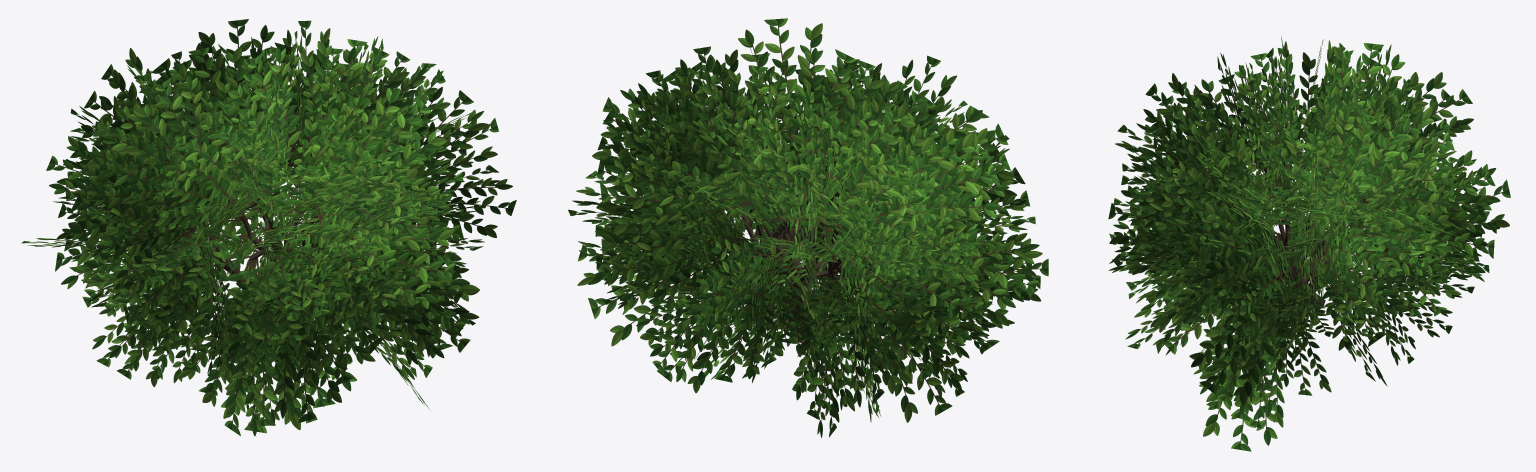
Rendered from bush.glb.
The picture shows the model from 3 angles, left to right: view 1: azimuth 30°, elevation 25°; view 2: azimuth 150°, elevation 25°; view 3: azimuth 270°, elevation 25°; orthographic projection. The views are drawn at different scales.
Visible parts, largest first — view 1: bush_leaves, bush; view 2: bush_leaves, bush; view 3: bush_leaves, bush.
Boxes of the visible parts, bbox=[...] form: bush_leaves: bbox=[21, 19, 516, 436]; bush: bbox=[182, 165, 343, 305]; bush_leaves: bbox=[568, 18, 1048, 437]; bush: bbox=[723, 173, 889, 343]; bush_leaves: bbox=[1108, 36, 1510, 451]; bush: bbox=[1231, 142, 1365, 320].
Size of the model in its own units: 1.96 by 1.57 by 1.72.
2 materials, 2 textured.
